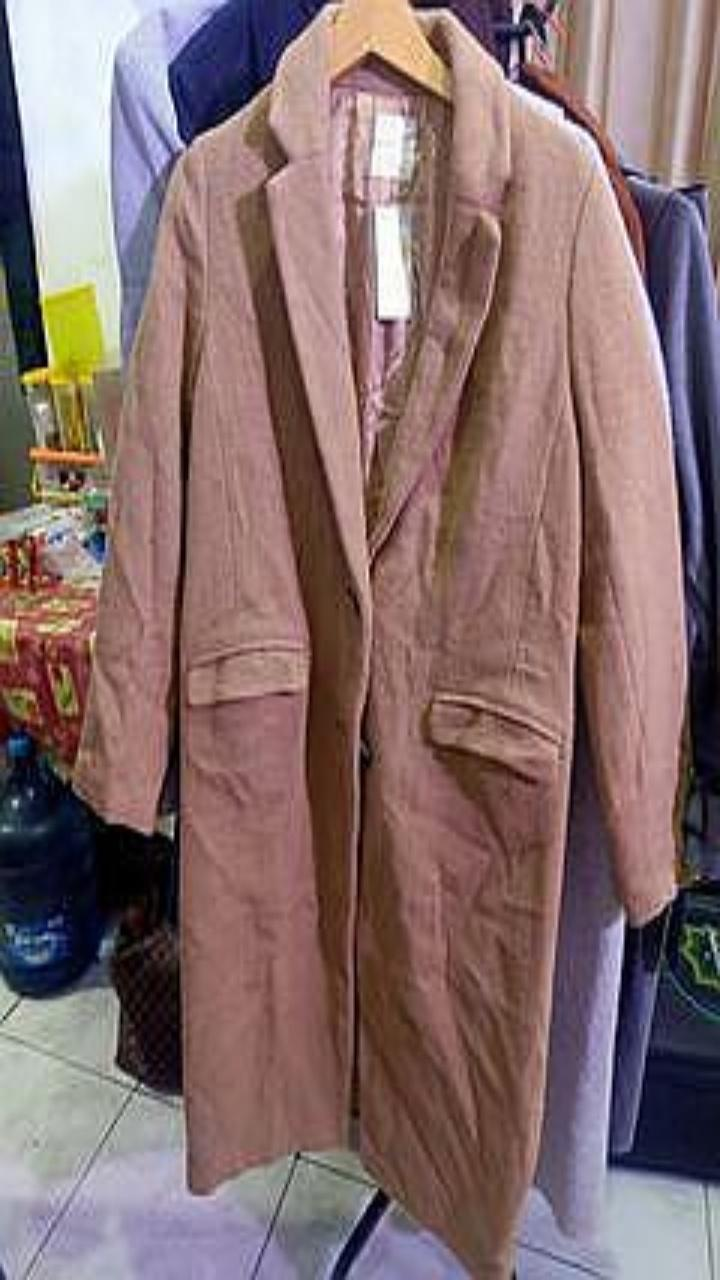Coat: (75, 13, 684, 1279)
